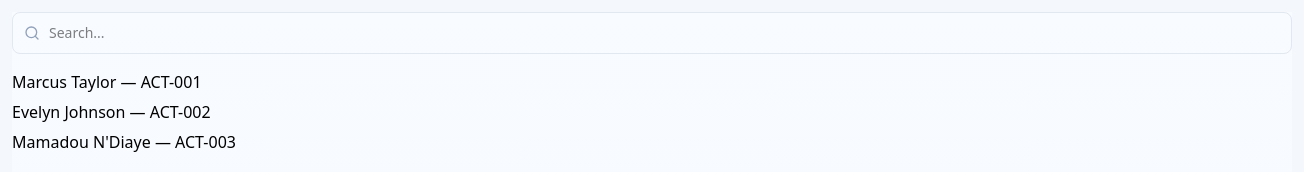
Test case: SearchableList › shows the empty-state message when no item matches
Type "nobody-matches-this" into the field with placeholder "Search..." at (652, 33), box [12, 12, 1292, 54]
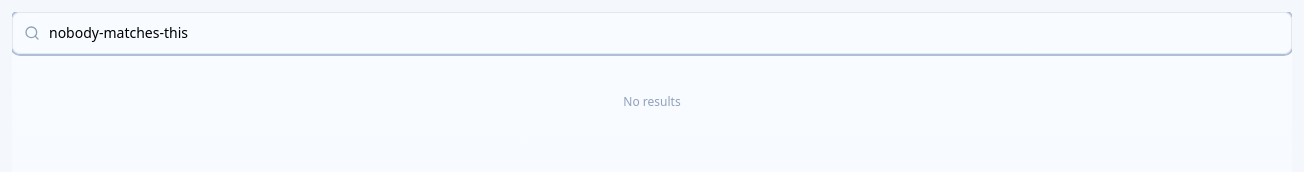
expect the text "No results" is shown: met, box [623, 93, 681, 110]
